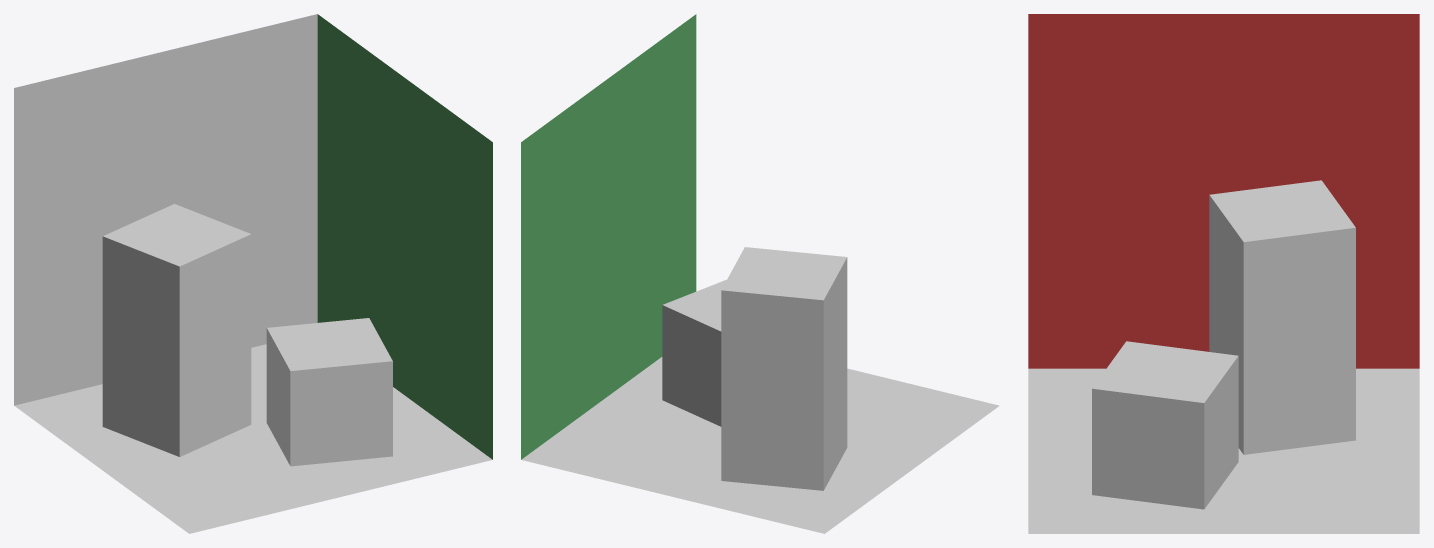
File: cornell_box.gltf
3 renders of one model, left to right at view 1: azimuth 30°, elevation 25°; view 2: azimuth 150°, elevation 25°; view 3: azimuth 270°, elevation 25°, orthographic. The views are drawn at different scales.
Parts seen in each view (by area): view 1: cornell_box; view 2: cornell_box; view 3: cornell_box.
Part boxes in pixels (x1=…): cornell_box: x1=14, y1=14, x2=492, y2=533; cornell_box: x1=521, y1=14, x2=999, y2=533; cornell_box: x1=1028, y1=14, x2=1419, y2=533.
Bounding box in the file's own units: 2 × 2 × 2.
